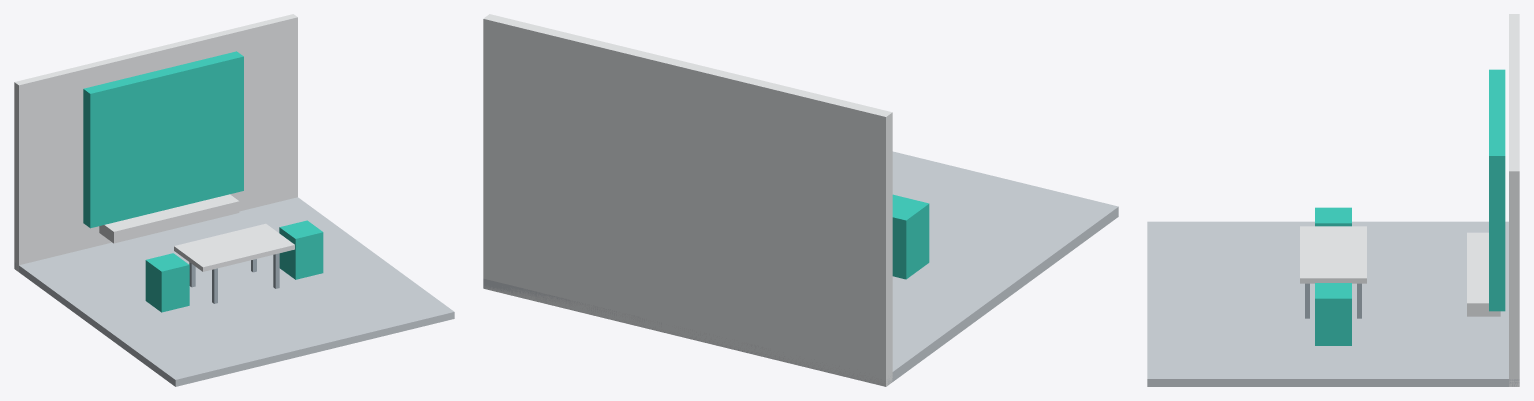
3 views of the same model, side by side, from view 1: azimuth 30°, elevation 25°; view 2: azimuth 150°, elevation 25°; view 3: azimuth 270°, elevation 25° (orthographic). The views are drawn at different scales.
Visible parts, largest first — view 1: Exhibition Booth Concept; view 2: Exhibition Booth Concept; view 3: Exhibition Booth Concept.
Part boxes in pixels (x1,y1,x2,y2): Exhibition Booth Concept: (14, 14, 454, 386); Exhibition Booth Concept: (483, 14, 1118, 386); Exhibition Booth Concept: (1147, 14, 1519, 386).
Size of the model in its own units: 5 by 3.2 by 5.
